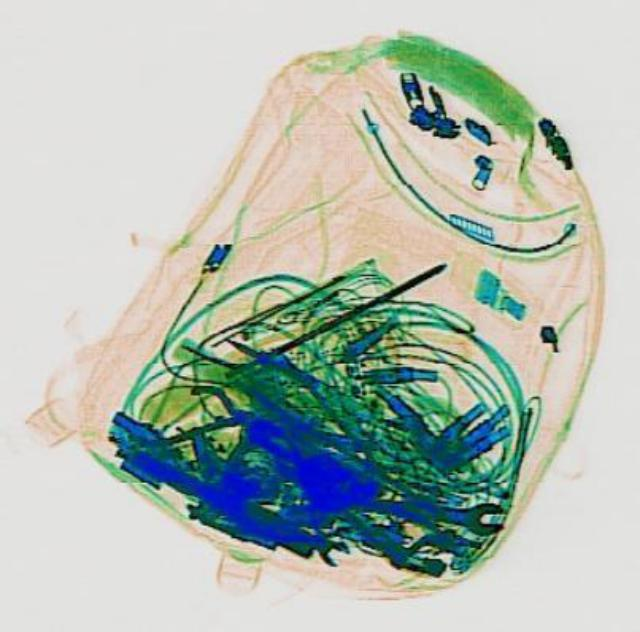Pliers: (153, 382, 251, 441)
Wrench: (201, 473, 351, 566), (373, 485, 507, 533)
